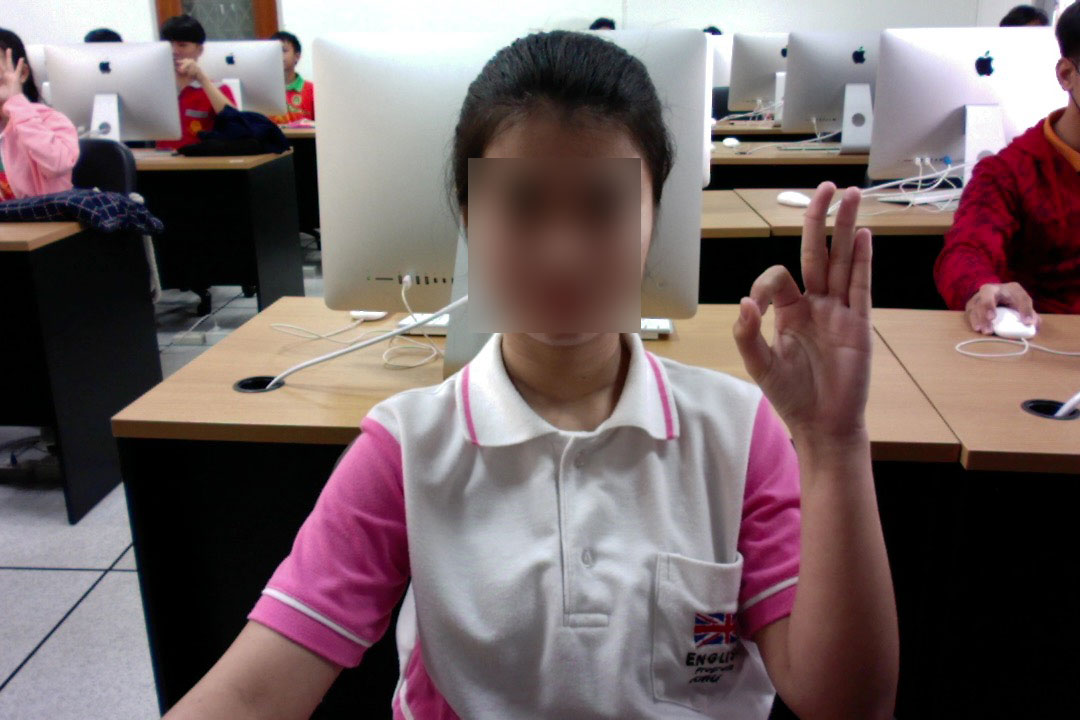for: (707, 175, 914, 482)
